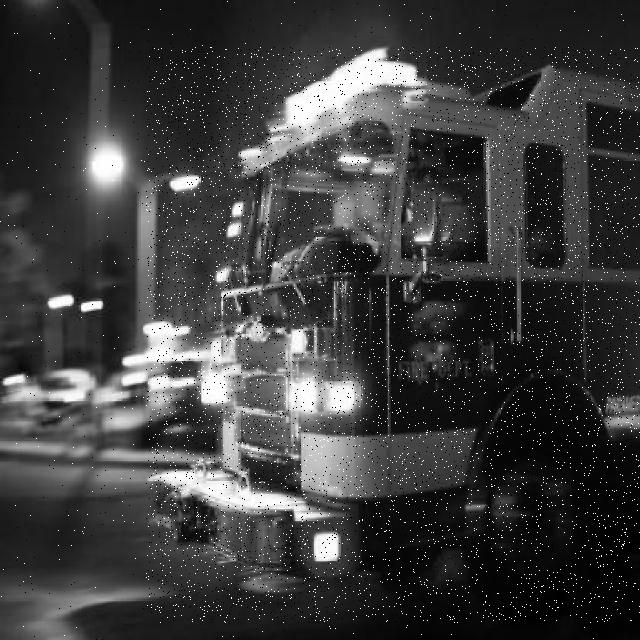Fire Truck: (146, 47, 640, 623)
